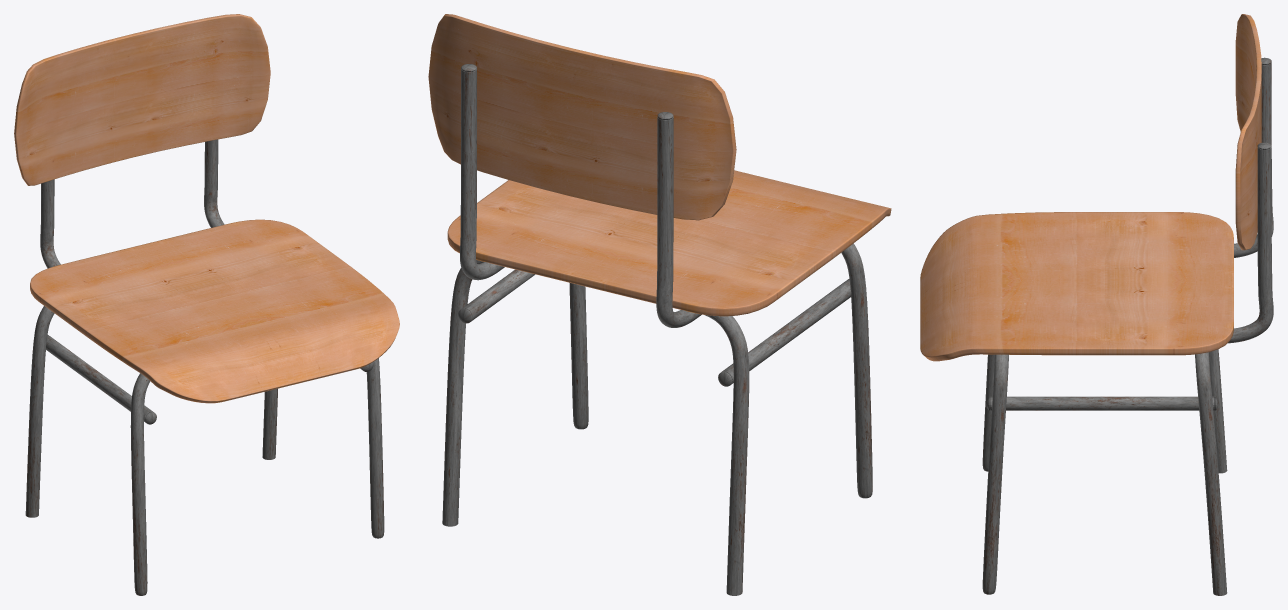
File: chair.glb
3 renders of one model, left to right at view 1: azimuth 30°, elevation 25°; view 2: azimuth 150°, elevation 25°; view 3: azimuth 270°, elevation 25°, orthographic. The views are drawn at different scales.
Parts seen in each view (by area): view 1: Plane.003_Silla_madera_0, Plane.003_Silla_metal_0; view 2: Plane.003_Silla_madera_0, Plane.003_Silla_metal_0; view 3: Plane.003_Silla_madera_0, Plane.003_Silla_metal_0.
Part boxes in pixels (bbox=[...]): Plane.003_Silla_madera_0: bbox=[14, 14, 399, 403]; Plane.003_Silla_metal_0: bbox=[25, 139, 384, 595]; Plane.003_Silla_madera_0: bbox=[428, 14, 891, 316]; Plane.003_Silla_metal_0: bbox=[442, 64, 872, 595]; Plane.003_Silla_madera_0: bbox=[920, 14, 1261, 361]; Plane.003_Silla_metal_0: bbox=[982, 57, 1273, 595].
Bounding box in the file's own units: 0.2 × 0.3164 × 0.2183.
Materials: 3 (2 with a texture image).
